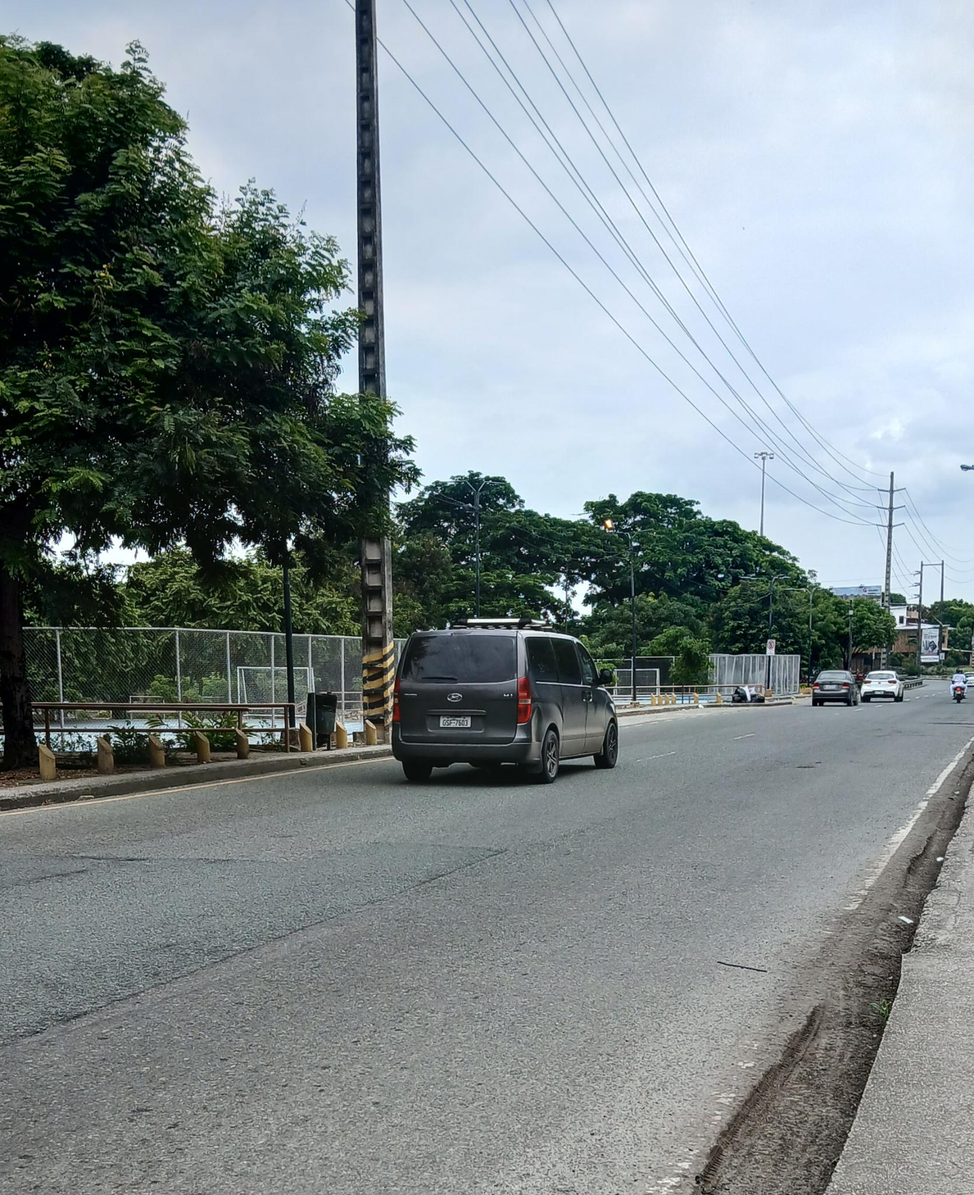license_plate: (439, 716, 472, 727), (820, 685, 838, 691), (872, 691, 891, 696), (955, 686, 962, 692)
